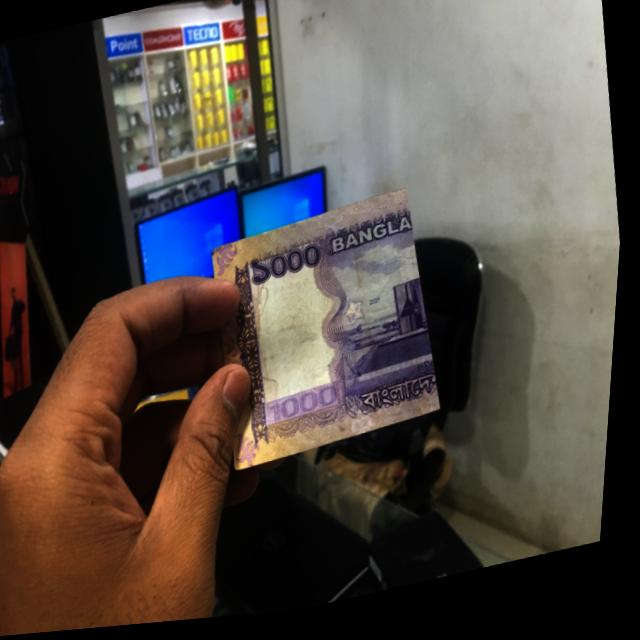Taka: (206, 203, 458, 460)
